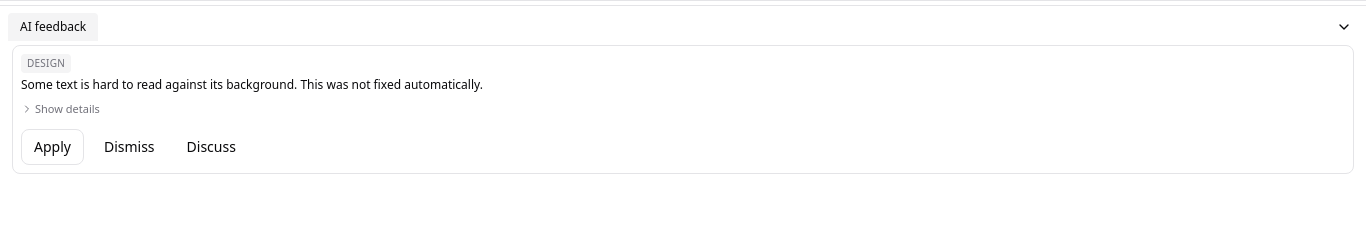
Test: FeedbackDrawer — plain message and details › 2. the toggle starts collapsed, expands to the verbatim technical message, and collapses again
Click the button "Show details" at (60, 109), box [21, 101, 100, 117]
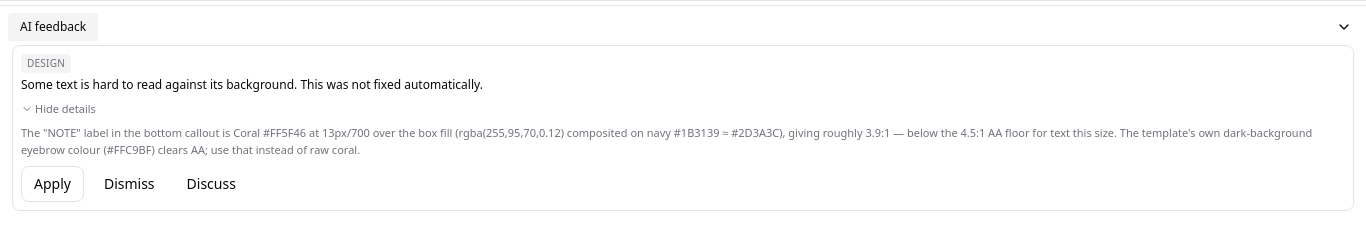
expect the text with test id "finding-plain-f-316" shows "Some text is hard to read against its background. This was not fixed automatically.": met, box [21, 76, 483, 93]
Click the button "Hide details" at (58, 109), box [21, 101, 96, 117]
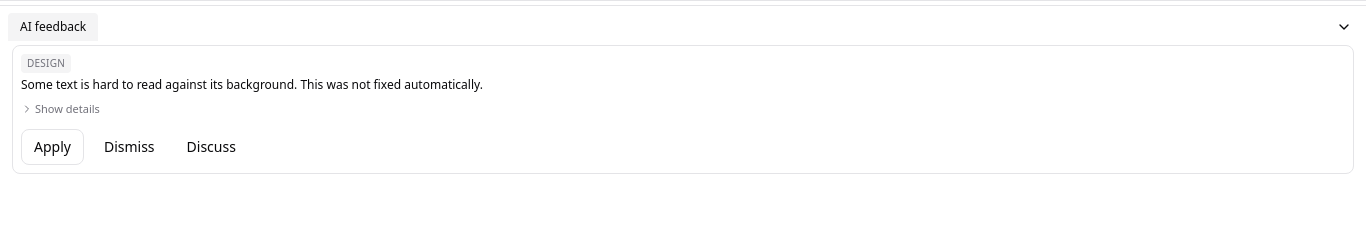
expect the text with test id "finding-details-f-316" is gone: met
